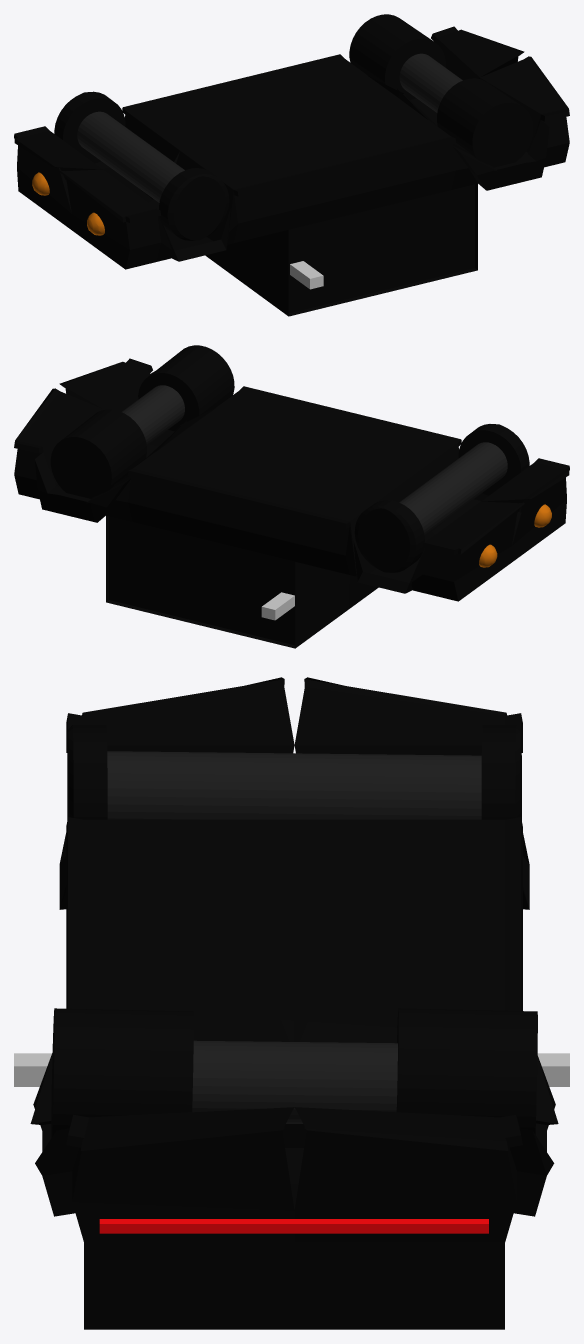
The picture shows the model from 3 angles, top to bottom: view 1: azimuth 30°, elevation 25°; view 2: azimuth 150°, elevation 25°; view 3: azimuth 270°, elevation 25°; orthographic projection. The views are drawn at different scales.
Visible parts, largest first — view 1: Cube, Cylinder.002_Cylinder.003, Cylinder.003_Cylinder.004, Cylinder.001_Cylinder.002, Cylinder.004_Cylinder.005, Cube.002, Mball_Mball.003; view 2: Cube, Cylinder.001_Cylinder.002, Cylinder.003_Cylinder.004, Cylinder.002_Cylinder.003, Cylinder.004_Cylinder.005, Cube.003, Mball_Mball.003; view 3: Cube, Cylinder.003_Cylinder.004, Cylinder.002_Cylinder.003, Cylinder.001_Cylinder.002, Cylinder.004_Cylinder.005, Cube.004, Cube.002, Cube.003.
Part boxes in pixels (box(x1,y1,x2,y2)): Cube: box(14, 26, 569, 316); Cylinder.002_Cylinder.003: box(437, 78, 533, 167); Cylinder.003_Cylinder.004: box(77, 111, 184, 202); Cylinder.001_Cylinder.002: box(349, 14, 445, 99); Cylinder.004_Cylinder.005: box(399, 53, 462, 112); Cube.002: box(290, 261, 323, 289); Mball_Mball.003: box(32, 172, 104, 235); Cube: box(14, 358, 569, 648); Cylinder.001_Cylinder.002: box(50, 409, 146, 498); Cylinder.003_Cylinder.004: box(399, 442, 507, 534); Cylinder.002_Cylinder.003: box(138, 345, 234, 431); Cylinder.004_Cylinder.005: box(122, 385, 184, 444); Cube.003: box(261, 592, 294, 620); Mball_Mball.003: box(479, 504, 551, 567); Cube: box(30, 677, 558, 1329); Cylinder.003_Cylinder.004: box(107, 751, 481, 819); Cylinder.002_Cylinder.003: box(51, 1008, 193, 1137); Cylinder.001_Cylinder.002: box(396, 1008, 537, 1134); Cylinder.004_Cylinder.005: box(192, 1040, 397, 1123); Cube.004: box(99, 1219, 488, 1233); Cube.002: box(14, 1053, 51, 1086); Cube.003: box(537, 1053, 569, 1086).
Size of the model in its own units: 11.02 by 3.75 by 5.72.
